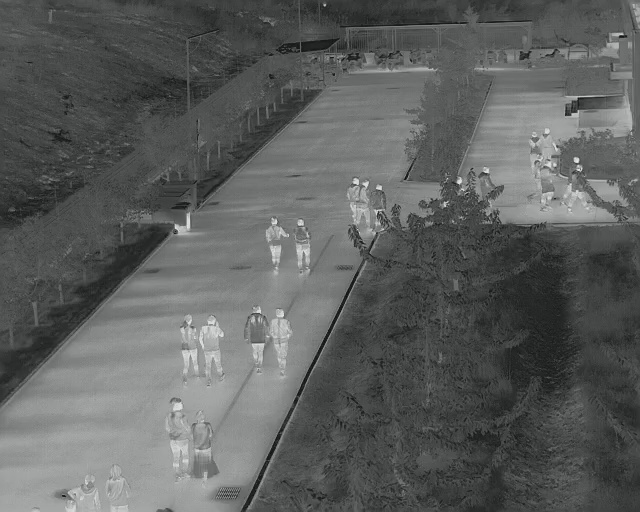person: (160, 396, 192, 479), (191, 410, 221, 484), (201, 317, 230, 385), (244, 305, 271, 373), (177, 313, 200, 382), (105, 462, 135, 511), (273, 309, 294, 376), (293, 216, 316, 273), (265, 216, 286, 271), (71, 476, 103, 512), (343, 175, 360, 224), (541, 158, 557, 209), (570, 159, 583, 209), (361, 177, 373, 229), (541, 125, 557, 159), (372, 185, 388, 216), (527, 132, 541, 165), (479, 165, 494, 194)
